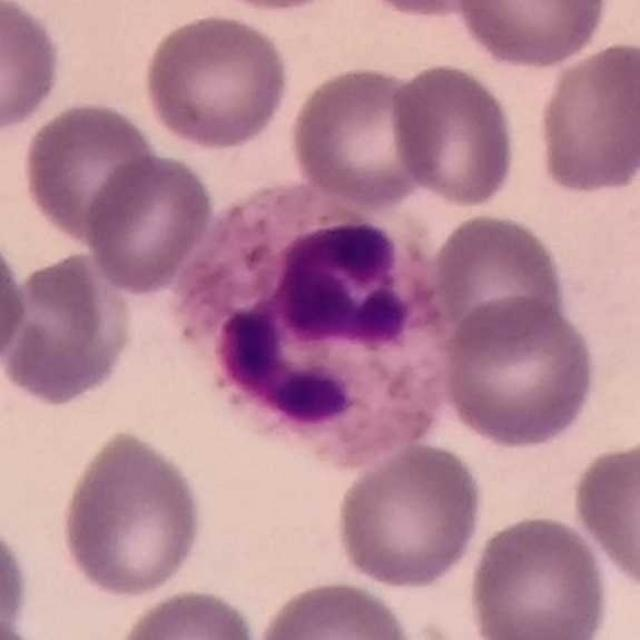Neutrophil: (177, 180, 456, 468)
RBC: (56, 425, 208, 601), (437, 293, 601, 452), (331, 440, 486, 592), (0, 247, 137, 410), (285, 62, 435, 210), (140, 10, 293, 151), (19, 97, 161, 248), (426, 209, 570, 351), (81, 149, 217, 295), (387, 60, 520, 209), (464, 511, 612, 640), (532, 37, 640, 198), (451, 0, 613, 70), (569, 434, 640, 593), (250, 576, 419, 640), (0, 0, 66, 137), (111, 584, 262, 640), (0, 227, 30, 376), (0, 517, 33, 637), (353, 0, 503, 20), (196, 0, 352, 16)
